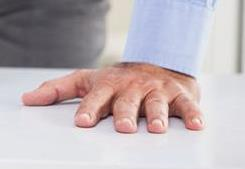down: (17, 55, 218, 138)
